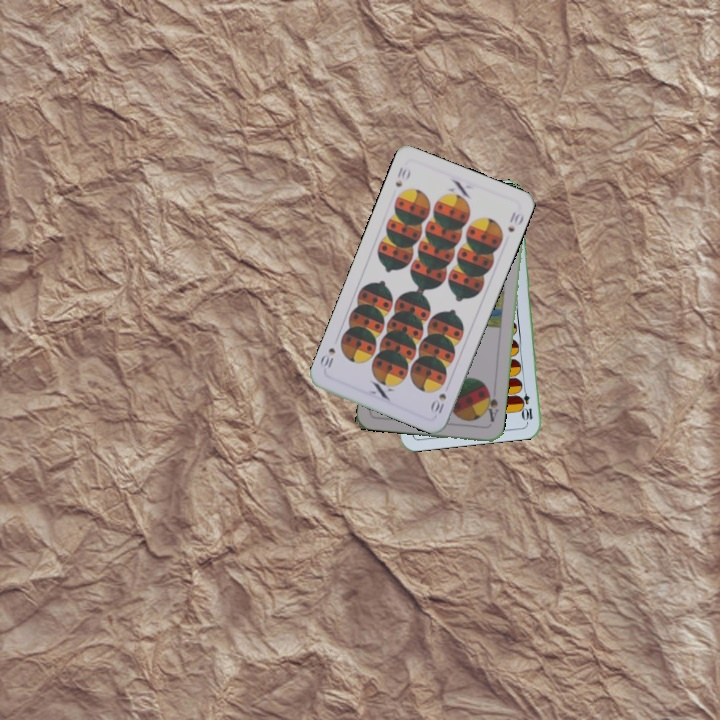E10: (518, 382, 535, 423)
S10: (391, 162, 413, 190), (428, 389, 449, 416)
SA: (481, 386, 501, 424)
